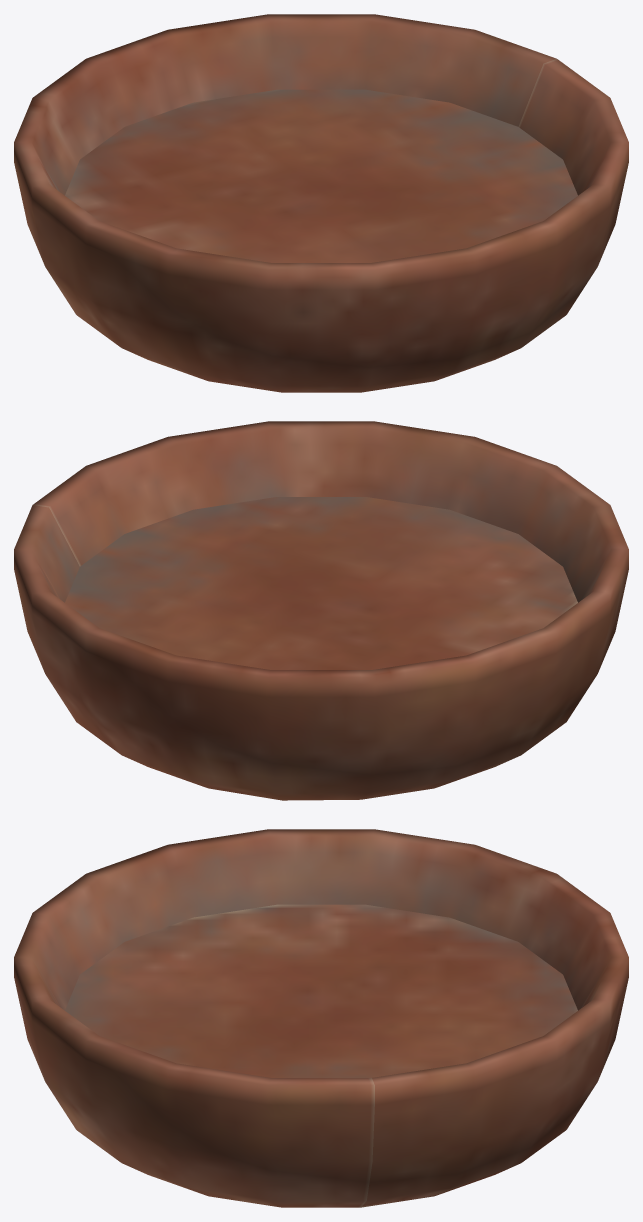
File: SM_Bowl_01.gltf
3 renders of one model, top to bottom at view 1: azimuth 30°, elevation 25°; view 2: azimuth 150°, elevation 25°; view 3: azimuth 270°, elevation 25°, orthographic.
Visible parts, largest first — view 1: SM_Bowl_01_LOD0; view 2: SM_Bowl_01_LOD0; view 3: SM_Bowl_01_LOD0.
Part boxes in pixels (x1,y1,x2,y2): SM_Bowl_01_LOD0: [14, 14, 628, 392]; SM_Bowl_01_LOD0: [14, 421, 628, 800]; SM_Bowl_01_LOD0: [14, 829, 628, 1207].
Size of what is drawn, in the model's own units: 0.169 by 0.0483 by 0.1717.
Materials: 1 (1 with a texture image).
